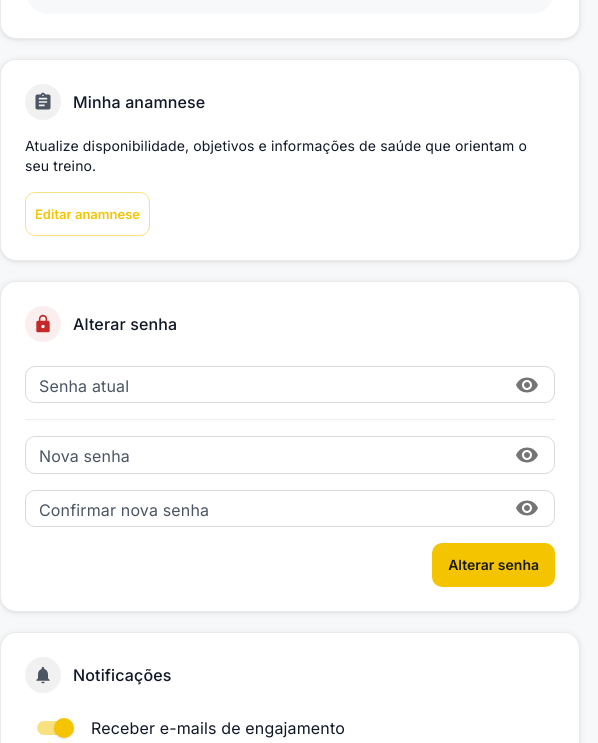
Scenario: /perfil — alterar senha › senha com 12+ chars mas sem maiúscula mostra erro de complexidade (paridade SenhaForte)
This screenshot has width=598, height=743.
(page scrolled)
Type "old12345" into the password field labelled "Senha atual". click: coordinates (264, 385)
box: [25,366,502,403]
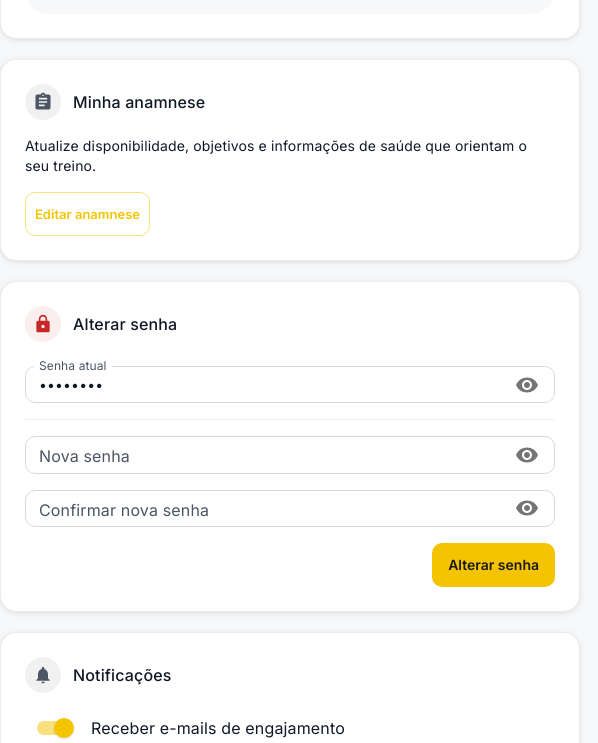
Type "semmaiuscula1" into the password field labelled "Nova senha". click: coordinates (264, 455)
box: [25,436,502,474]
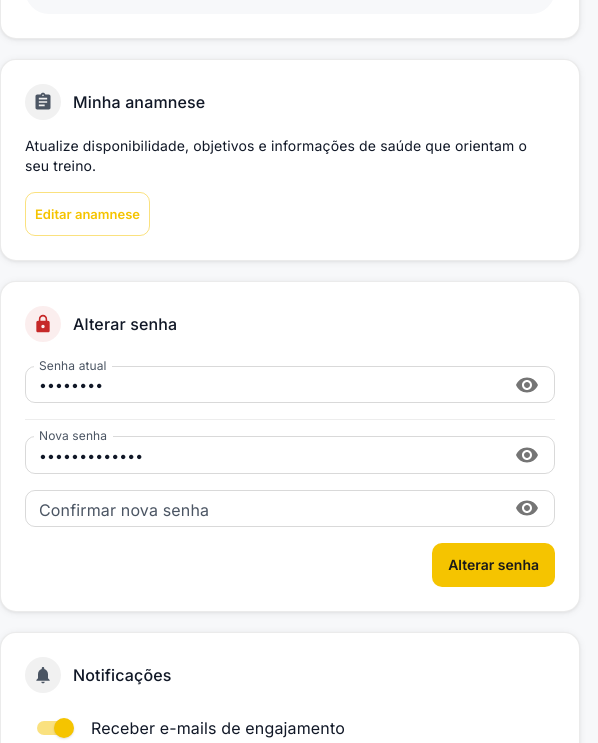
Type "semmaiuscula1" into the password field labelled "Confirmar nova senha". click: coordinates (264, 508)
box: [25,490,502,527]
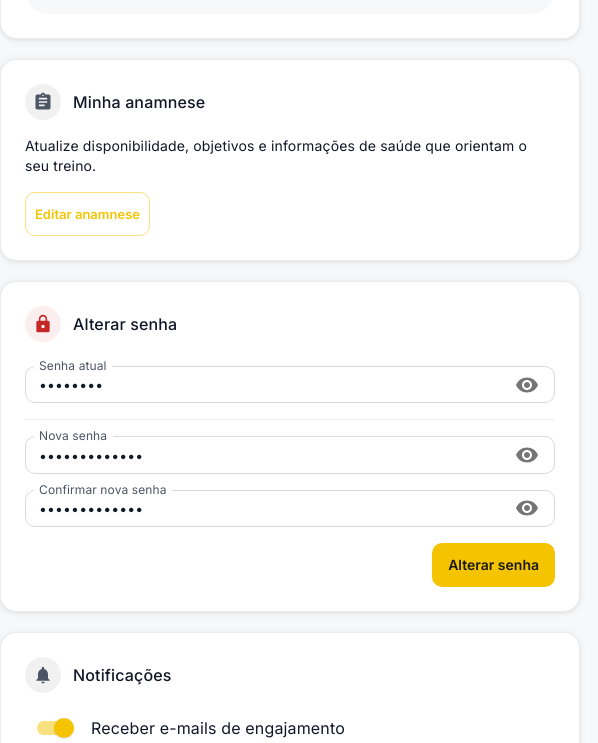
Click the button "Alterar senha". click: coordinates (494, 565)
box: [432,543,555,587]
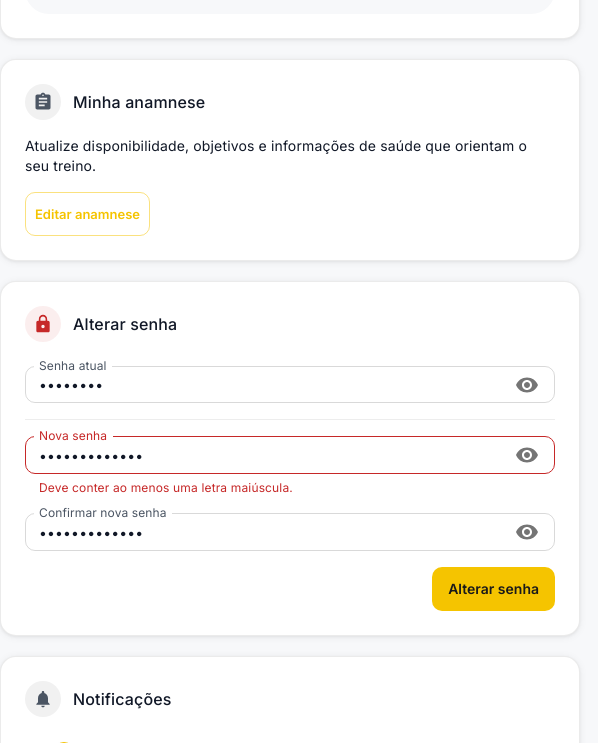
Expected: the text "Deve conter ao menos uma letra maiúscula." is shown, [39,480,293,495]
